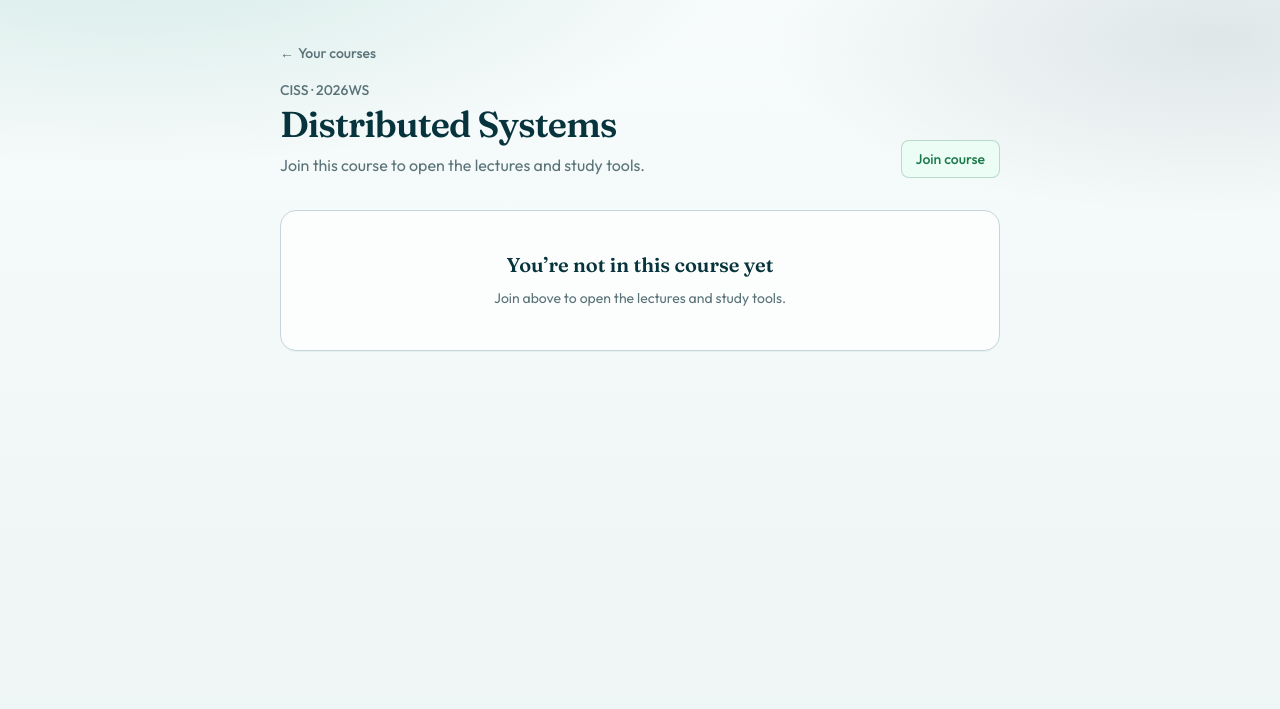
Test case: material pages › offers enroll when the student cannot list materials yet
Click the button "Join course" at point(950, 159), box [900,140,1000,178]
(page scrolled)
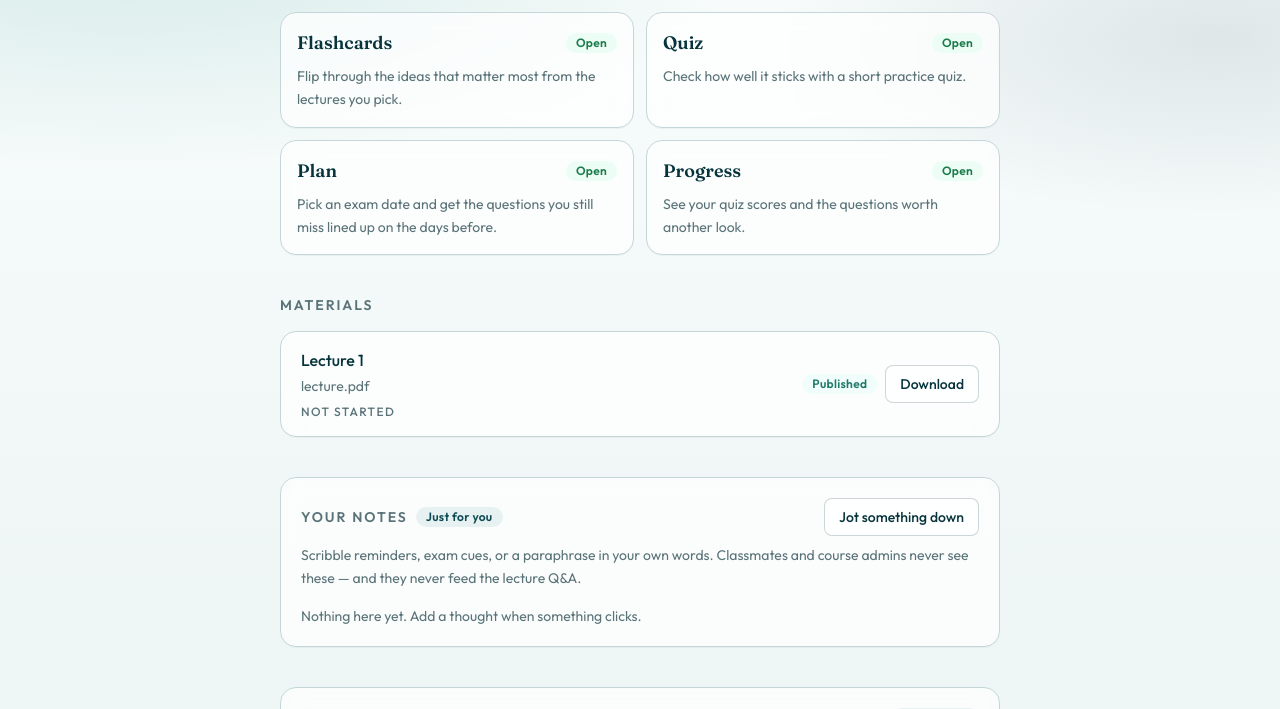
Expected: the text "Lecture 1" is shown, [301,350,364,370]
